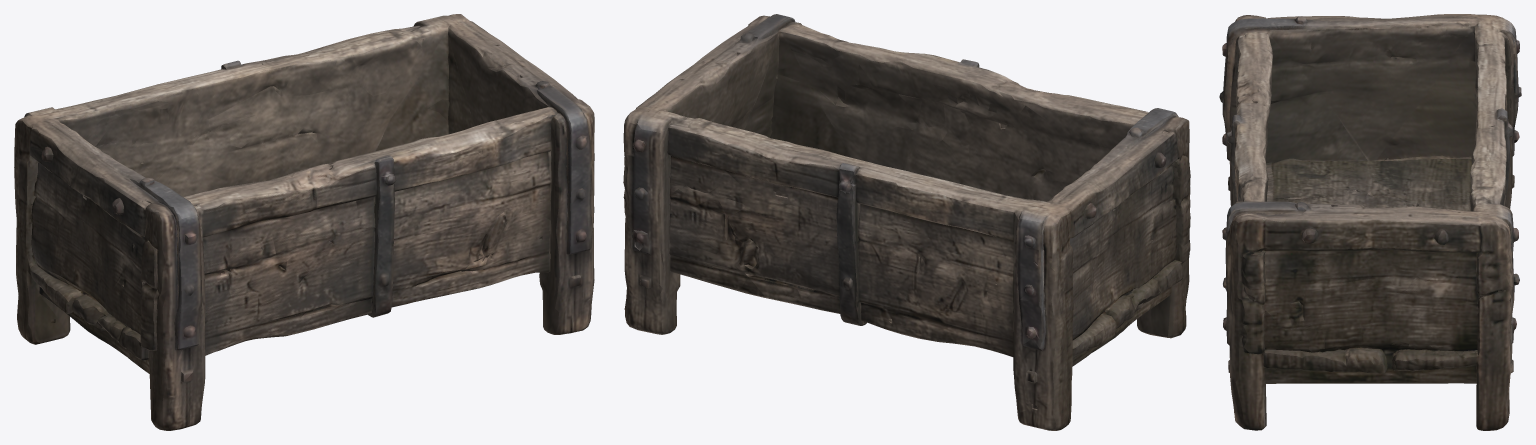
The model's file is trough.glb.
The picture shows the model from 3 angles, left to right: view 1: azimuth 30°, elevation 25°; view 2: azimuth 150°, elevation 25°; view 3: azimuth 270°, elevation 25°; orthographic projection. The views are drawn at different scales.
Parts seen in each view (by area): view 1: geometry_0; view 2: geometry_0; view 3: geometry_0.
Part boxes in pixels (x1,y1,x2,y2): geometry_0: (14,14,594,430); geometry_0: (623,14,1190,430); geometry_0: (1219,14,1521,430).
Bounding box in the file's own units: 0.6 × 0.29 × 0.3592.
1 material, 1 textured.
